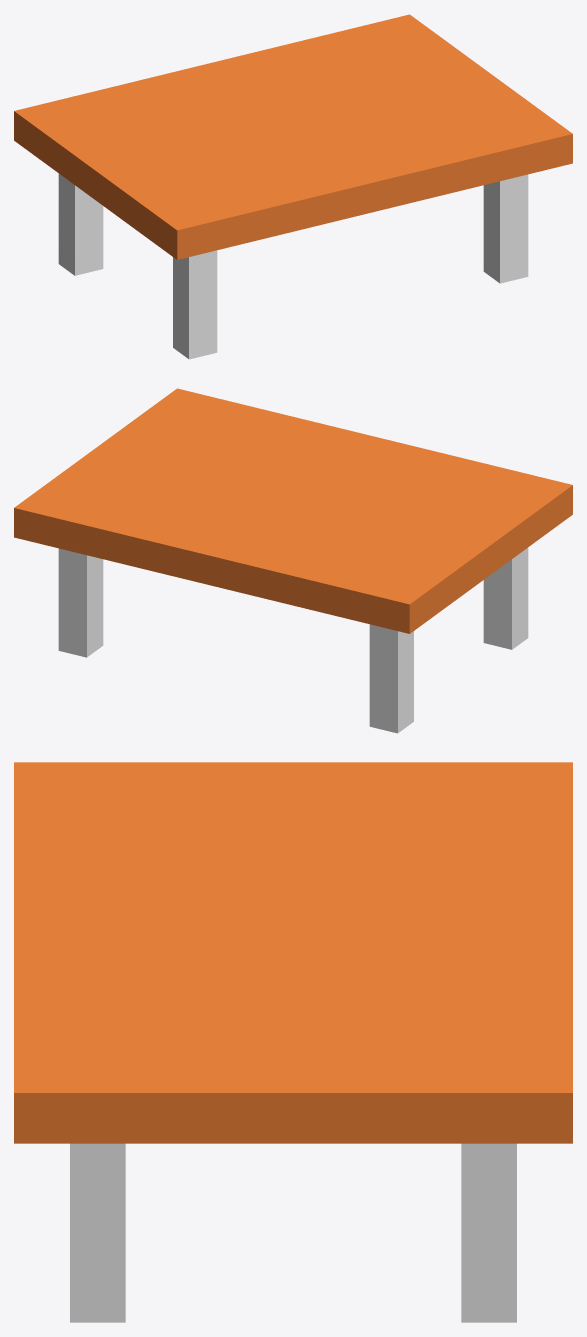
File: Table.fbx
3 views of the same model, one above another, from view 1: azimuth 30°, elevation 25°; view 2: azimuth 150°, elevation 25°; view 3: azimuth 270°, elevation 25° (orthographic). The views are drawn at different scales.
Parts seen in each view (by area): view 1: default; view 2: default; view 3: default.
Part boxes in pixels (<box>): default: <box>14,14,572,359</box>; default: <box>14,388,572,733</box>; default: <box>14,762,572,1322</box>.
Size of the model in its own units: 56 by 20 by 40.
